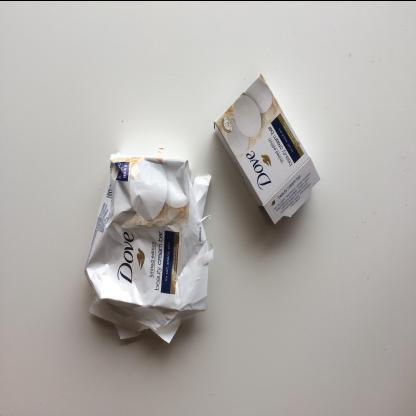Paper: (214, 72, 321, 225)
Plastic: (84, 151, 214, 342)
